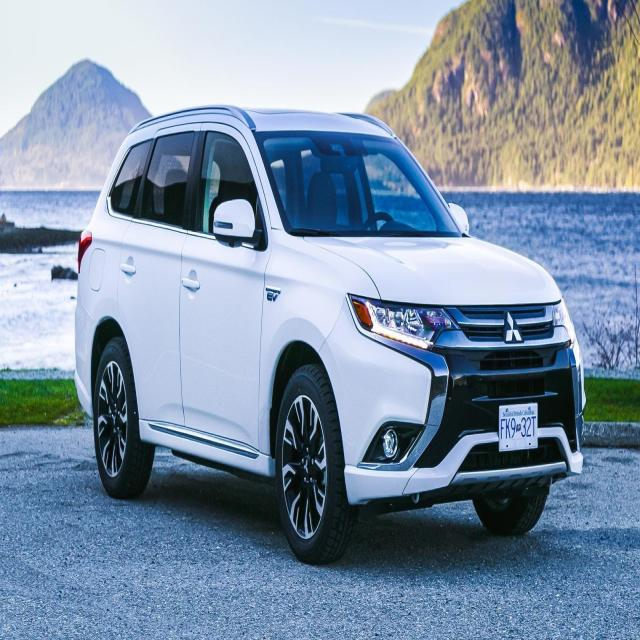light_vehicle: (73, 105, 586, 567)
